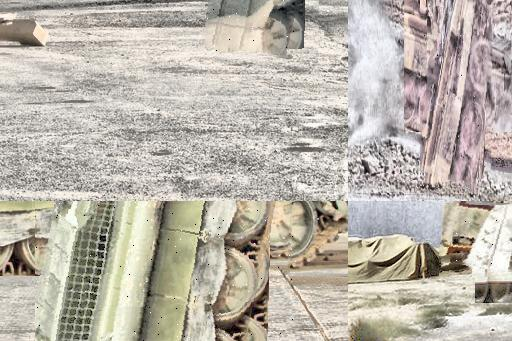tanks: (37, 202, 280, 341), (421, 1, 494, 190), (207, 1, 302, 57), (440, 206, 512, 274)
